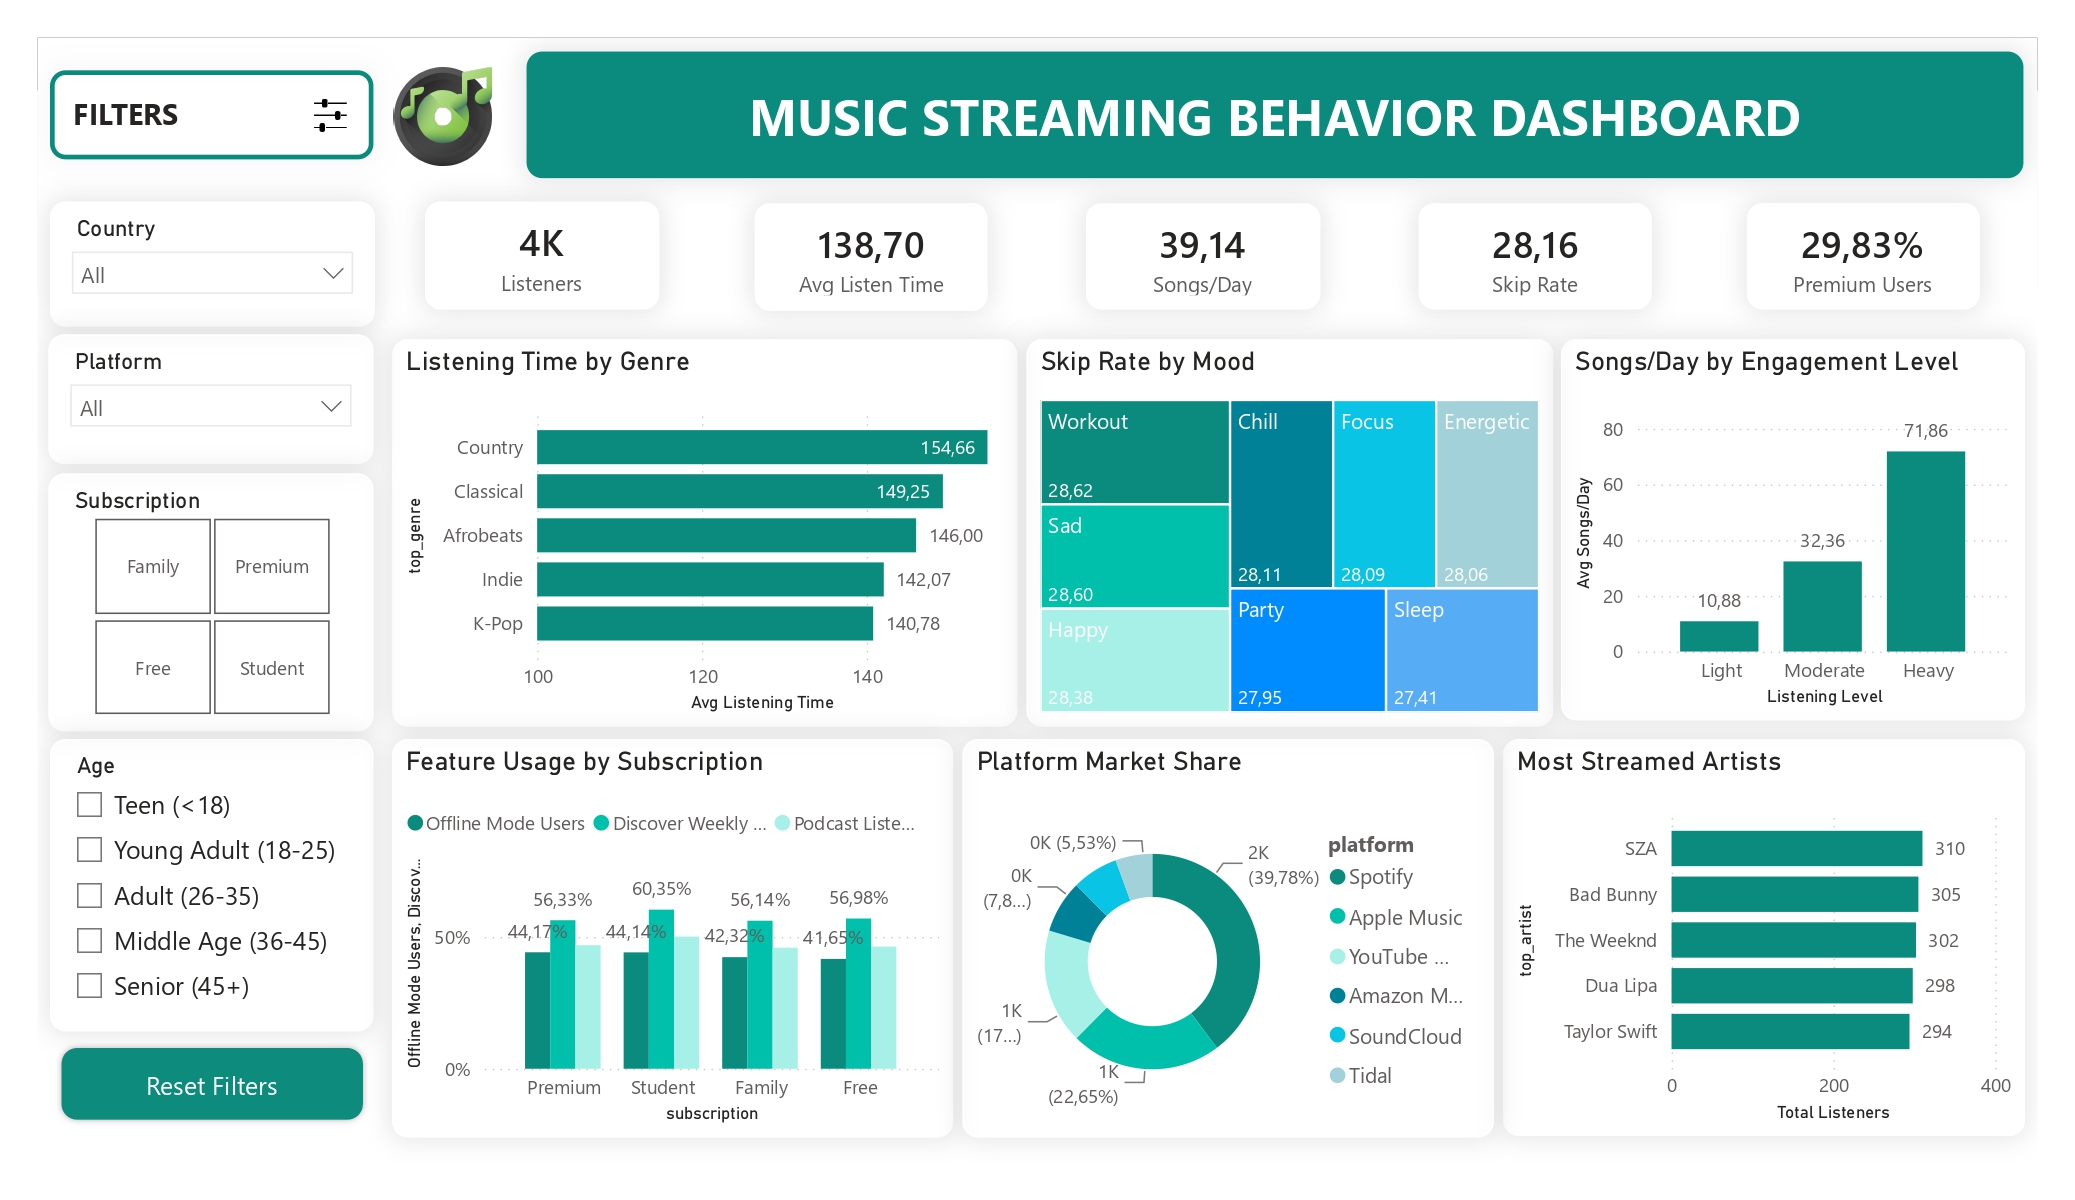

What the dashboard file says about the page in this screenshot:
{"tool":"powerbi","page":{"name":"Page 1","canvas":[1280,720],"ordinal":0},"visuals":[{"type":"cardVisual","fields":{"Data":["Measures Table.Total Listeners"]},"box":[248.5,105.4,149.2,68.5],"z":0},{"type":"cardVisual","fields":{"Data":["Measures Table.Avg Daily Listening Minutes"]},"box":[458.8,106.2,149.2,68.5],"z":1000},{"type":"cardVisual","fields":{"Data":["Measures Table.Avg Songs per Day"]},"box":[671.4,105.7,149.2,68.5],"z":2000},{"type":"cardVisual","fields":{"Data":["Measures Table.Avg Skip Rate %"]},"box":[884.3,105.7,149.2,68.5],"z":3000},{"type":"clusteredBarChart","title":"\tListening Time by Genre","fields":{"Category":["music_streaming_habits_2026.top_genre"],"Y":["Measures Table.Avg Listening Time"]},"box":[226.7,193.3,400,247.5],"z":4000},{"type":"slicer","fields":{"Values":["music_streaming_habits_2026.country"]},"box":[7.7,105.4,208.5,79.2],"z":5000},{"type":"slicer","fields":{"Values":["music_streaming_habits_2026.platform"]},"box":[7.3,189.5,207.9,83.2],"z":6000},{"type":"slicer","fields":{"Values":["music_streaming_habits_2026.subscription"]},"box":[7.3,278.8,207.9,165.1],"z":7000},{"type":"slicer","fields":{"Values":["music_streaming_habits_2026.Age Group"]},"box":[7.5,448.8,207.5,187.5],"z":8000},{"type":"treemap","title":"Skip Rate by Mood","fields":{"Group":["music_streaming_habits_2026.top_mood"],"Values":["Measures Table.Avg Skip Rate"]},"box":[632.5,193.3,337.5,247.5],"z":9000},{"type":"clusteredColumnChart","title":"Feature Usage by Subscription","fields":{"Category":["music_streaming_habits_2026.subscription"],"Y":["Measures Table.Offline Mode Users","Measures Table.Discover Weekly Users","Measures Table.Podcast Listeners"]},"box":[226.7,449.2,359.2,255],"z":10000},{"type":"clusteredBarChart","title":"Most Streamed Artists","fields":{"Category":["music_streaming_habits_2026.top_artist"],"Y":["Measures Table.Total Listeners"]},"box":[937.5,449.2,334.2,254.2],"z":11000},{"type":"clusteredColumnChart","title":"Songs/Day by Engagement Level","fields":{"Category":["music_streaming_habits_2026.Listening Level"],"Y":["Measures Table.Avg Songs/Day"]},"box":[975,193.3,296.7,243.3],"z":12000},{"type":"donutChart","title":"\tPlatform Market Share","fields":{"Category":["music_streaming_habits_2026.platform"],"Y":["Measures Table.Total Listeners"]},"box":[591.7,449.2,340,255],"z":13000},{"type":"actionButton","title":"Reset Filters","box":[11,643.2,200.5,53.8],"z":14000},{"type":"textbox","box":[312.5,8.8,958.8,81.2],"z":15000},{"type":"cardVisual","fields":{"Data":["Measures Table.Premium Users"]},"box":[1094.3,105.7,148.8,68.8],"z":16000},{"type":"image","box":[227.5,15,63.8,70],"z":17000},{"type":"textbox","box":[7.5,21.2,207.5,56.2],"z":18000},{"type":"image","box":[159.4,38.3,56.2,22.8],"z":19000}]}

Visuals, with their boxes on the page's 1280x720 design canvas (x1, y1, x2, y2). These are canvas units, not pixel positions in the 2075x1200 screenshot, which may show the page scaled, cropped or inside an application window:
cardVisual - Measures Table.Total Listeners: Rect(248, 105, 398, 174)
cardVisual - Measures Table.Avg Daily Listening Minutes: Rect(459, 106, 608, 175)
cardVisual - Measures Table.Avg Songs per Day: Rect(671, 106, 821, 174)
cardVisual - Measures Table.Avg Skip Rate %: Rect(884, 106, 1034, 174)
"	Listening Time by Genre" clusteredBarChart: Rect(227, 193, 627, 441)
slicer - music_streaming_habits_2026.country: Rect(8, 105, 216, 185)
slicer - music_streaming_habits_2026.platform: Rect(7, 190, 215, 273)
slicer - music_streaming_habits_2026.subscription: Rect(7, 279, 215, 444)
slicer - music_streaming_habits_2026.Age Group: Rect(8, 449, 215, 636)
"Skip Rate by Mood" treemap: Rect(632, 193, 970, 441)
"Feature Usage by Subscription" clusteredColumnChart: Rect(227, 449, 586, 704)
"Most Streamed Artists" clusteredBarChart: Rect(938, 449, 1272, 703)
"Songs/Day by Engagement Level" clusteredColumnChart: Rect(975, 193, 1272, 437)
"	Platform Market Share" donutChart: Rect(592, 449, 932, 704)
"Reset Filters" actionButton: Rect(11, 643, 212, 697)
textbox: Rect(312, 9, 1271, 90)
cardVisual - Measures Table.Premium Users: Rect(1094, 106, 1243, 174)
image: Rect(228, 15, 291, 85)
textbox: Rect(8, 21, 215, 77)
image: Rect(159, 38, 216, 61)
